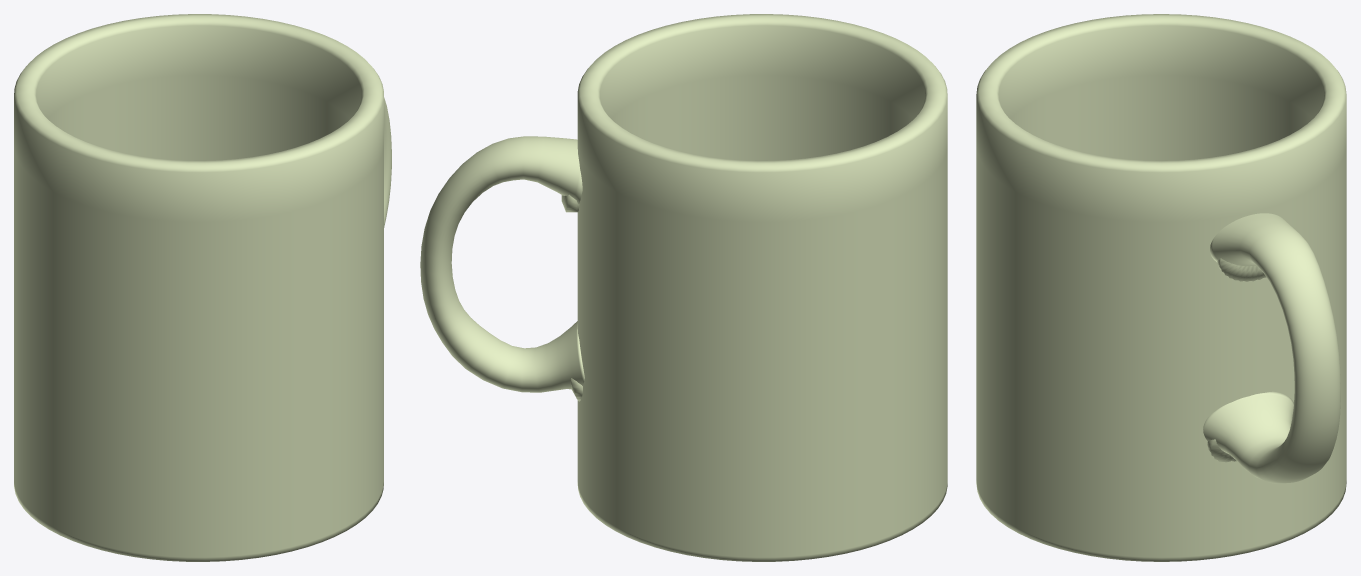
Rendered from FreeMug.fbx.
3 views of the same model, side by side, from view 1: azimuth 30°, elevation 25°; view 2: azimuth 150°, elevation 25°; view 3: azimuth 270°, elevation 25° (orthographic).
Visible parts, largest first — view 1: Cylinder; view 2: Cylinder; view 3: Cylinder.
Part boxes in pixels (x1,y1,x2,y2): Cylinder: (14,14,391,561); Cylinder: (420,14,947,561); Cylinder: (976,14,1346,561).
Bounding box in the file's own units: 275 × 247 × 208.
